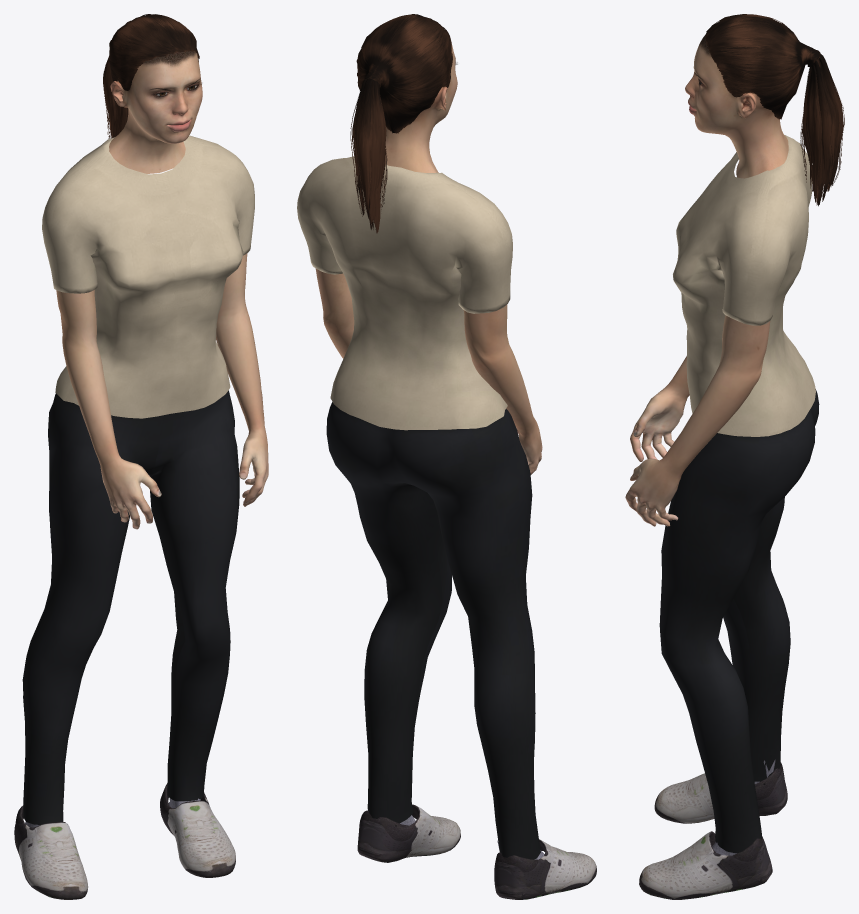
The model's file is premium-female-01.glb.
3 views of the same model, side by side, from view 1: azimuth 30°, elevation 25°; view 2: azimuth 150°, elevation 25°; view 3: azimuth 270°, elevation 25° (orthographic). The views are drawn at different scales.
Parts seen in each view (by area): view 1: female_casualsuit01, body, shoes05, hair; view 2: female_casualsuit01, hair, body, shoes05; view 3: female_casualsuit01, body, hair, shoes05.
Part boxes in pixels (x1=…): female_casualsuit01: x1=22, y1=135, x2=254, y2=824; body: x1=56, y1=51, x2=268, y2=529; shoes05: x1=14, y1=783, x2=235, y2=899; hair: x1=103, y1=14, x2=199, y2=138; female_casualsuit01: x1=297, y1=156, x2=540, y2=859; hair: x1=350, y1=14, x2=452, y2=233; body: x1=315, y1=44, x2=542, y2=474; shoes05: x1=357, y1=804, x2=596, y2=899; female_casualsuit01: x1=659, y1=135, x2=819, y2=853; body: x1=625, y1=35, x2=788, y2=526; hair: x1=705, y1=14, x2=844, y2=206; shoes05: x1=639, y1=759, x2=787, y2=899.
Bounding box in the file's own units: 0.5015 × 1.6 × 0.3676.
Materials: 7 (7 with a texture image).
